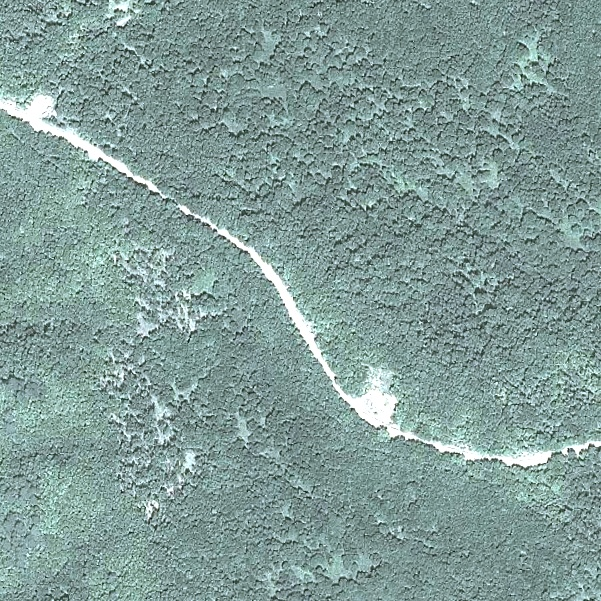slope: (353, 377, 405, 430), (15, 89, 60, 130)
